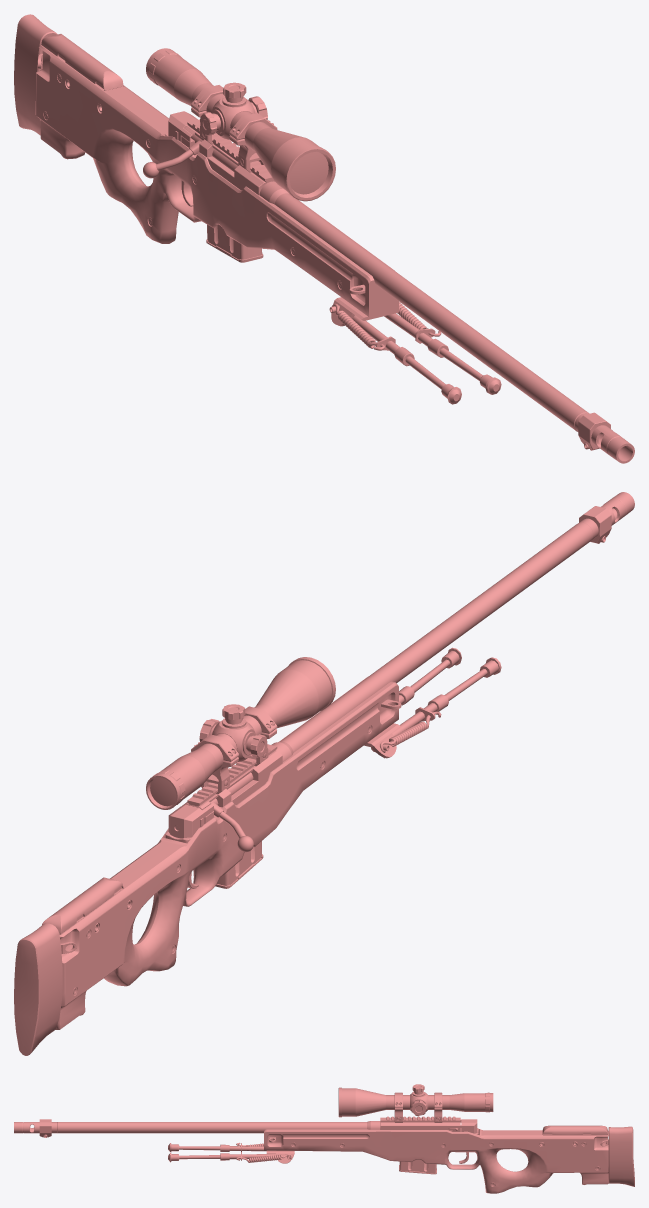
File: awp.glb
3 renders of one model, top to bottom at view 1: azimuth 30°, elevation 25°; view 2: azimuth 150°, elevation 25°; view 3: azimuth 270°, elevation 25°, orthographic. The views are drawn at different scales.
Visible parts, largest first — view 1: wire_224198087, wire_224086086; view 2: wire_224198087; view 3: wire_224198087.
Boxes of the visible parts, x1,y1,x2,y2 form: wire_224198087: [14, 14, 634, 463]; wire_224086086: [290, 151, 328, 194]; wire_224198087: [14, 492, 634, 1055]; wire_224198087: [14, 1084, 634, 1193].
Bounding box in the file's own units: 0.1185 × 0.2629 × 1.4.
